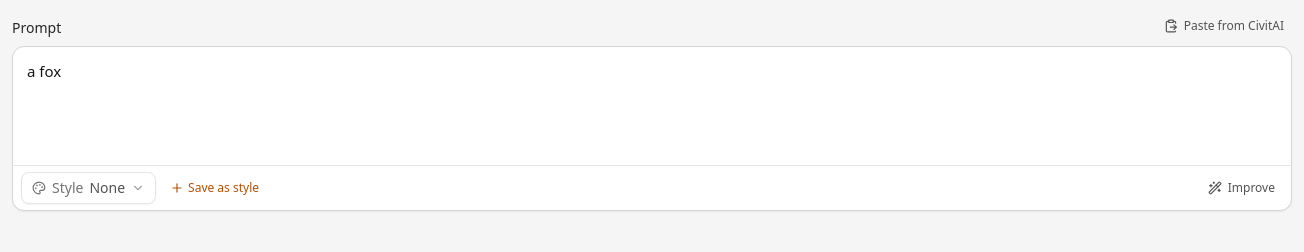
Test: Improve my prompt › keeps the prompt and says so when the helper's answer was unusable
The image size is (1304, 252).
Click the button "Improve": [1241, 188] box [1200,174,1283,202]
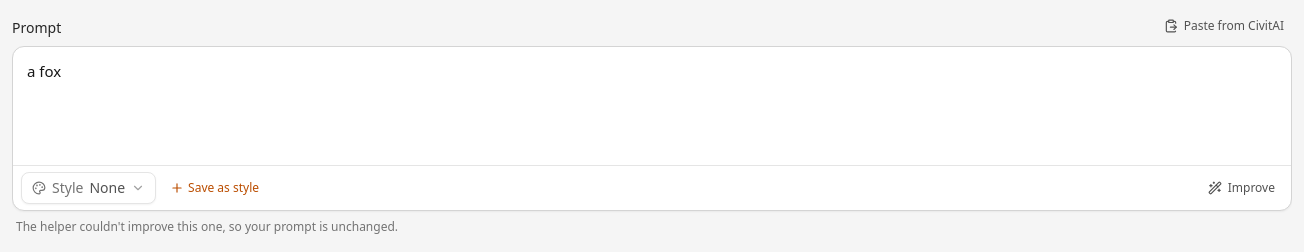
Now the text "The helper couldn't improve this one, so your prompt is unchanged." is shown, box [16,218,398,235]
